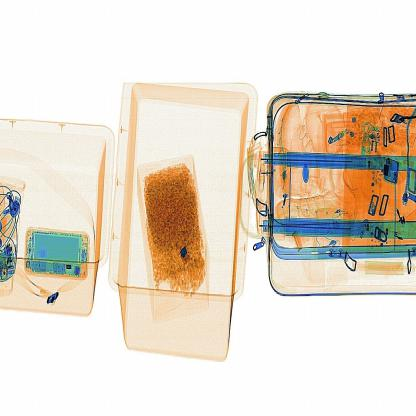wrench: (173, 244, 198, 262)
